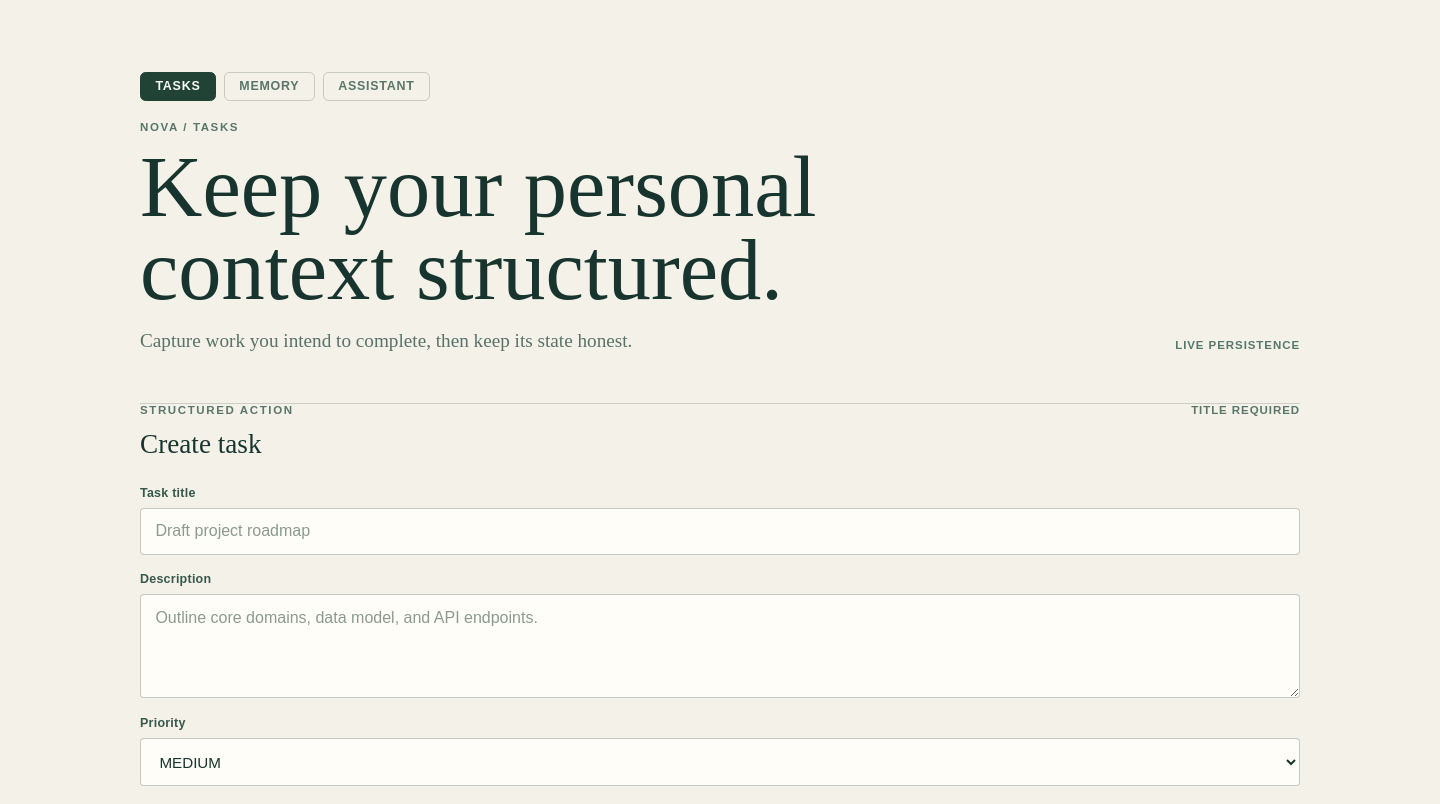
task workspace › shows memory error states when request fails
Click the button "Memory".
click(269, 86)  # box [224,72,315,101]
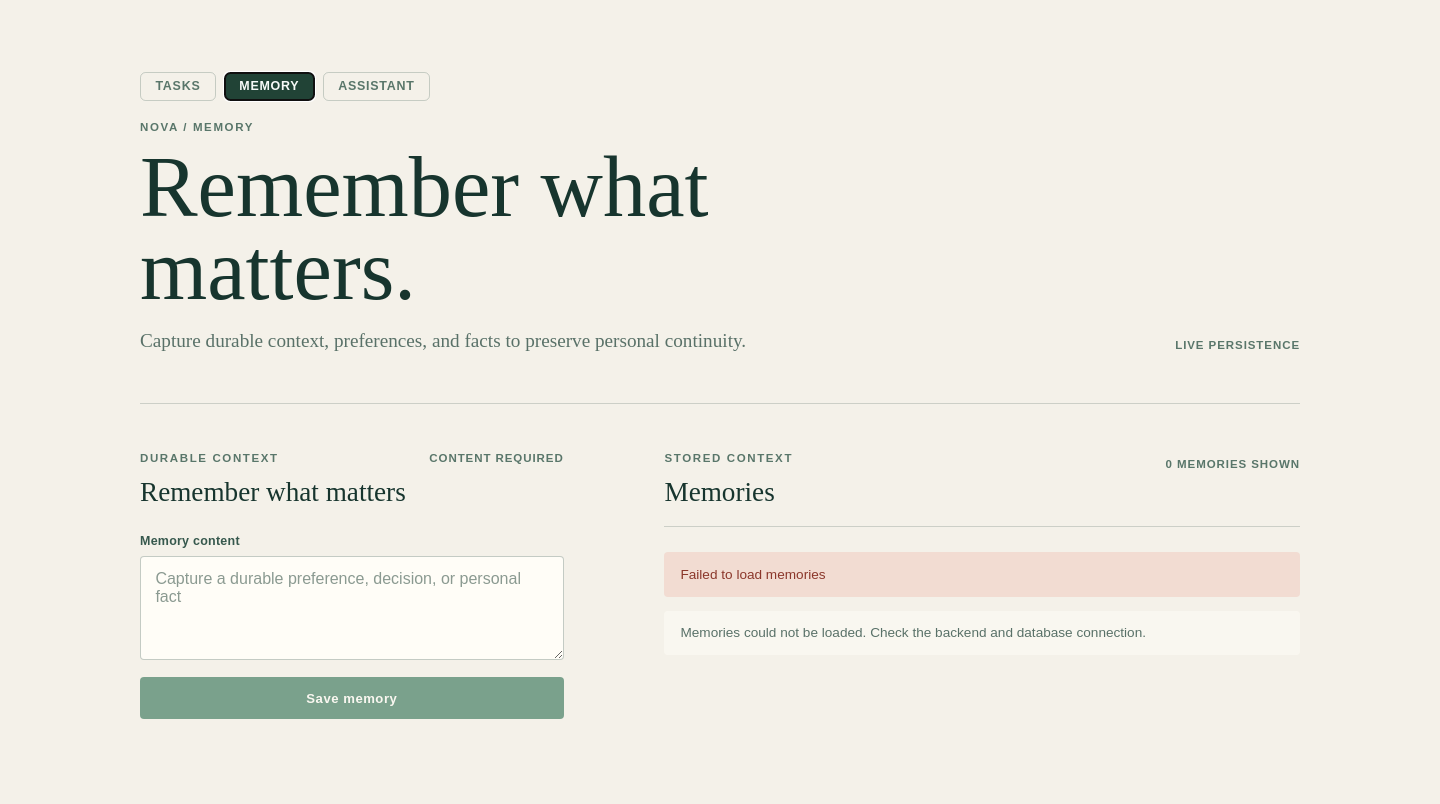
Now the text "Memories could not be loaded. Check the backend and database connection." is shown, box [664,610,1300,655]
Now the message reads "Failed to load memories", box [680,567,826,582]
